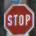Stop sign: (0, 0, 35, 35)
